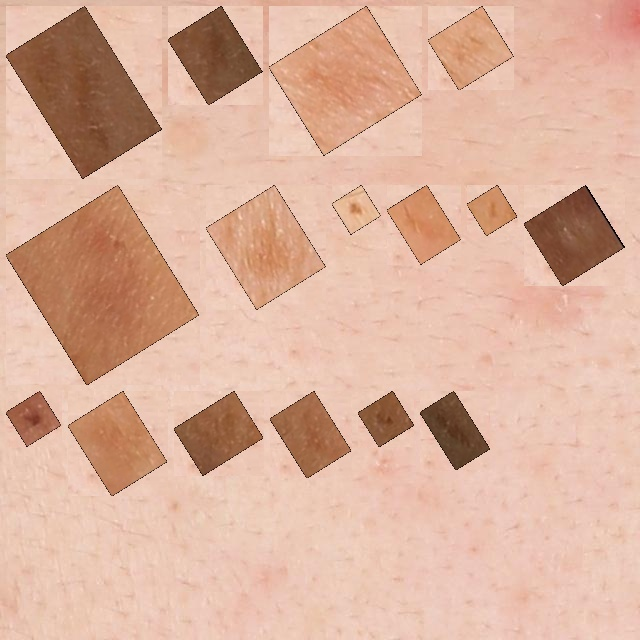hypertrophic_scar: (535, 196, 614, 275)
melasma: (17, 196, 188, 374), (17, 17, 151, 167), (280, 17, 411, 144), (217, 196, 315, 298), (79, 402, 156, 485), (179, 17, 251, 94), (185, 402, 252, 464), (439, 17, 503, 79), (281, 402, 340, 467), (398, 196, 450, 253), (431, 402, 479, 459), (369, 402, 403, 436), (478, 196, 506, 224)
nevus: (17, 402, 50, 435), (343, 196, 370, 223)
